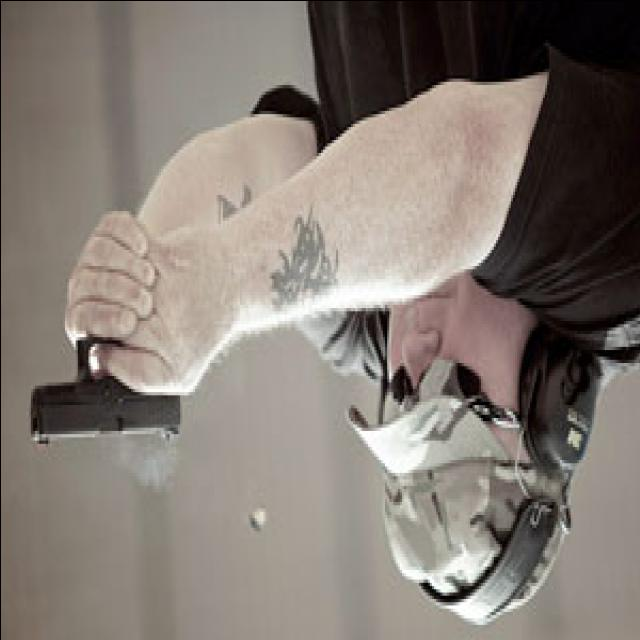weapons: (15, 271, 200, 518)
